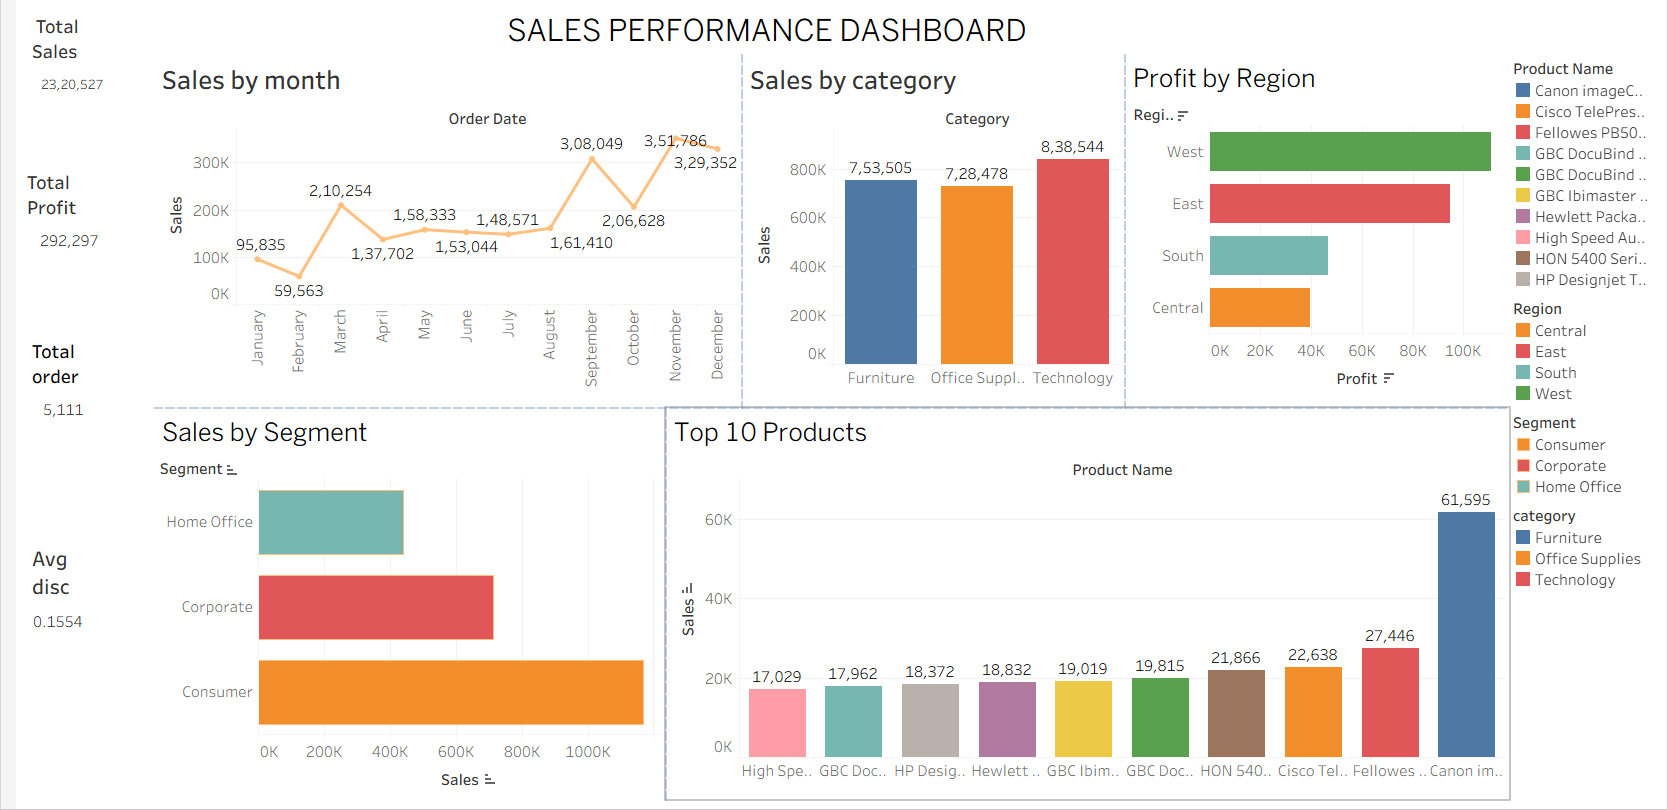

The page's visual inventory and layout, read from the dashboard file:
{"tool":"tableau","page":{"name":"Dashboard 2","canvas":[1000,1000],"units":"permille","ordinal":0},"visuals":[{"type":"worksheet","title":"Sheet 6","mark":"Text","box":[4.9,10.1,78.7,400]},{"type":"title","box":[83.6,10.1,911.4,61.6]},{"type":"worksheet","title":"Sheet 1","mark":"Automatic","rows":["Sales"],"cols":["Order Date"],"box":[83.6,71.7,356,435.6]},{"type":"worksheet","title":"Sheet 2","mark":"Automatic","rows":["Sales"],"cols":["Category"],"box":[439.6,71.7,231.8,435.6]},{"type":"worksheet","title":"Sheet 3","mark":"Automatic","rows":["Region"],"cols":["Profit"],"box":[671.4,71.7,232,435.6]},{"type":"legend","title":"Sheet 4","param":"[federated.1nj2mi106n9rod15va4gt122u3o7].[none:Product Name:nk]","box":[903.4,71.7,91.6,301.9]},{"type":"worksheet","title":"Sheet 7","mark":"Automatic","box":[4.3,206.3,74.4,171.1]},{"type":"legend","title":"Sheet 3","param":"[federated.1nj2mi106n9rod15va4gt122u3o7].[none:Region:nk]","box":[903.4,373.6,91.6,143.4]},{"type":"worksheet","title":"Sheet 8","mark":"Automatic","box":[4.9,410.1,78.7,253.3]},{"type":"worksheet","title":"Sheet 5","mark":"Automatic","rows":["Segment"],"cols":["Sales"],"box":[83.6,507.3,310,482.6]},{"type":"worksheet","title":"Sheet 4","mark":"Automatic","rows":["Sales"],"cols":["Product Name"],"box":[393.6,507.3,509.8,482.6]},{"type":"legend","title":"Sheet 5","param":"[federated.1nj2mi106n9rod15va4gt122u3o7].[none:Segment:nk]","box":[903.4,517,91.6,117]},{"type":"legend","title":"Sheet 2","param":"[federated.1nj2mi106n9rod15va4gt122u3o7].[none:Calculation_1718293443907584:nk]","box":[903.4,633.9,91.6,117]},{"type":"worksheet","title":"Sheet 9","mark":"Text","box":[4.9,663.3,78.7,326.6]}]}

Visuals, with their boxes on the dashboard's canvas, which has no fixed pixel size, in thousandths of its width and height (x1, y1, x2, y2). These are canvas units, not pixel positions in the 1667x810 screenshot, which may show the page scaled, cropped or inside an application window:
"Sheet 6" worksheet (Text marks): x1=5, y1=10, x2=84, y2=410
title: x1=84, y1=10, x2=995, y2=72
"Sheet 1" worksheet: x1=84, y1=72, x2=440, y2=507
"Sheet 2" worksheet: x1=440, y1=72, x2=671, y2=507
"Sheet 3" worksheet: x1=671, y1=72, x2=903, y2=507
"Sheet 4" legend: x1=903, y1=72, x2=995, y2=374
"Sheet 7" worksheet: x1=4, y1=206, x2=79, y2=377
"Sheet 3" legend: x1=903, y1=374, x2=995, y2=517
"Sheet 8" worksheet: x1=5, y1=410, x2=84, y2=663
"Sheet 5" worksheet: x1=84, y1=507, x2=394, y2=990
"Sheet 4" worksheet: x1=394, y1=507, x2=903, y2=990
"Sheet 5" legend: x1=903, y1=517, x2=995, y2=634
"Sheet 2" legend: x1=903, y1=634, x2=995, y2=751
"Sheet 9" worksheet (Text marks): x1=5, y1=663, x2=84, y2=990
